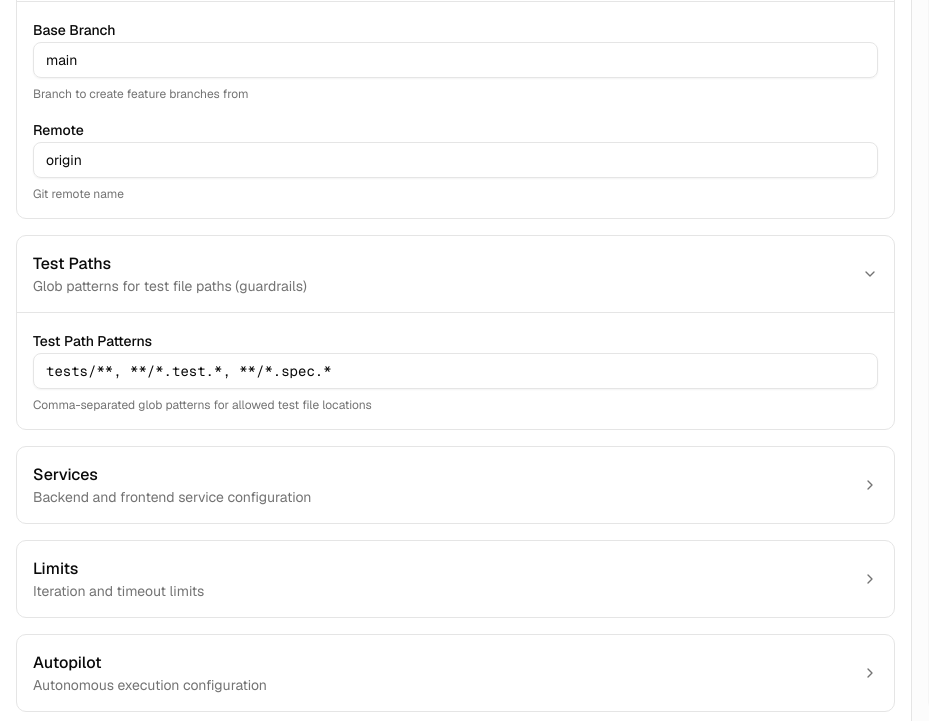
Test: ConfigEditor › form interactions › expands collapsed sections when clicked
This screenshot has width=929, height=721.
(page scrolled)
Click the button "Services". click: (65, 474)
box: [17, 447, 894, 523]
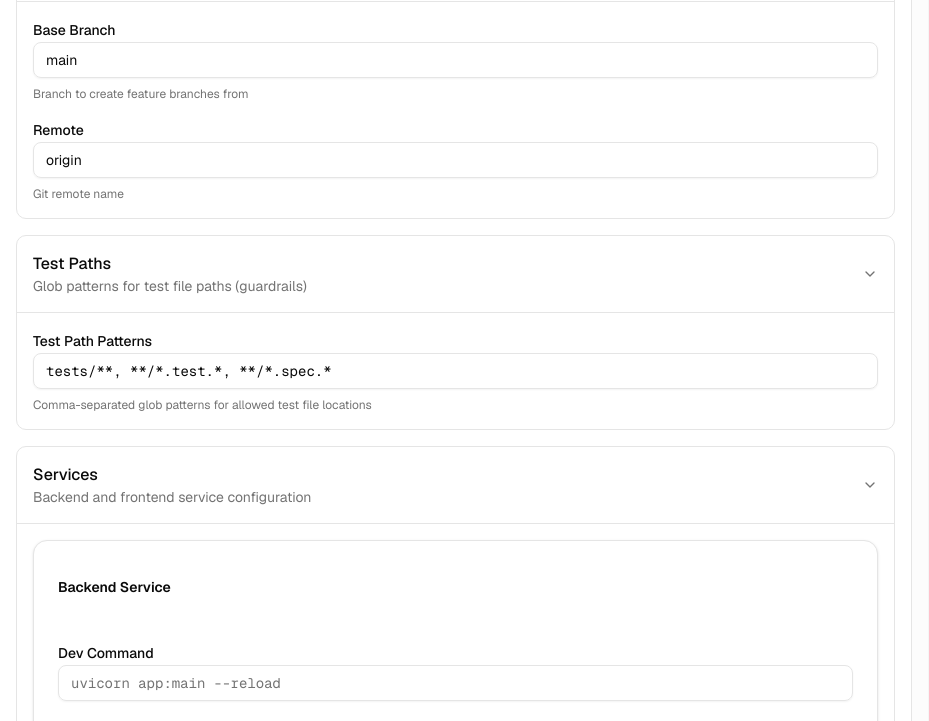
Expected: the text "Backend Service" is shown, [58, 578, 171, 596]
